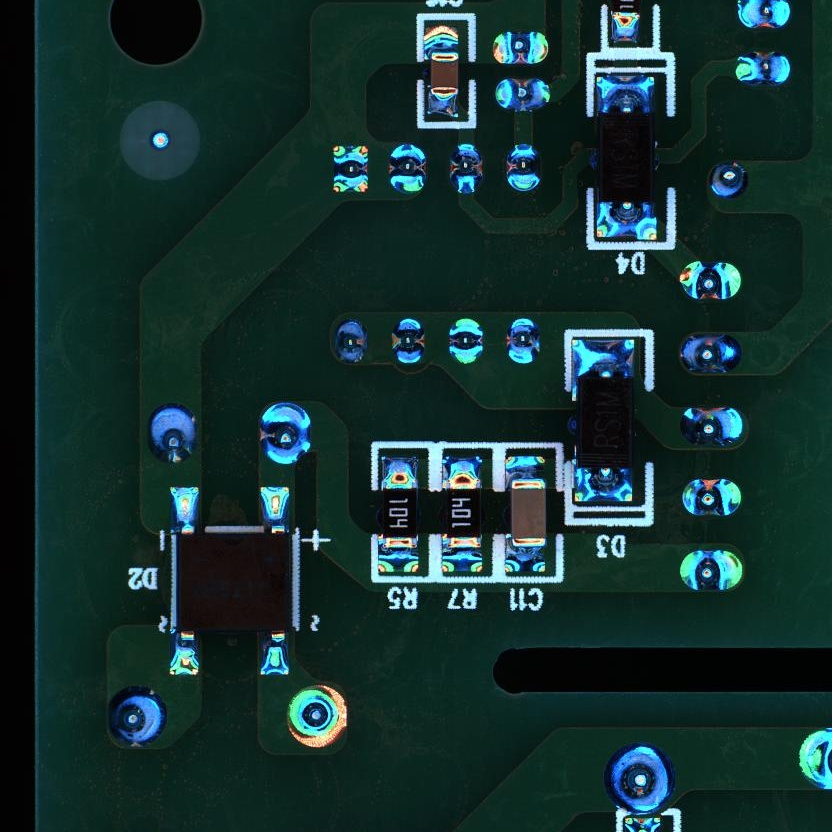spot: (604, 741, 678, 816), (283, 682, 351, 751), (105, 684, 168, 751), (258, 402, 315, 466), (145, 403, 200, 465), (677, 548, 745, 593), (677, 333, 743, 377), (678, 258, 744, 301), (679, 406, 745, 448), (681, 476, 742, 518), (796, 726, 832, 793), (446, 142, 485, 198), (491, 29, 551, 65), (493, 78, 554, 112), (733, 50, 791, 85), (388, 142, 426, 195), (504, 316, 542, 367), (448, 317, 486, 368), (503, 143, 542, 191), (331, 145, 369, 193), (390, 316, 426, 365), (332, 318, 368, 367), (707, 158, 749, 198), (734, 1, 791, 30)
